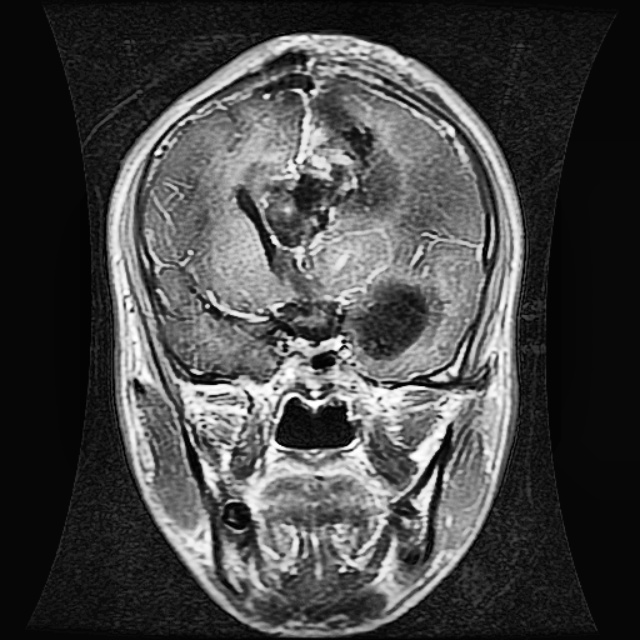Meningioma: (234, 82, 398, 277)
